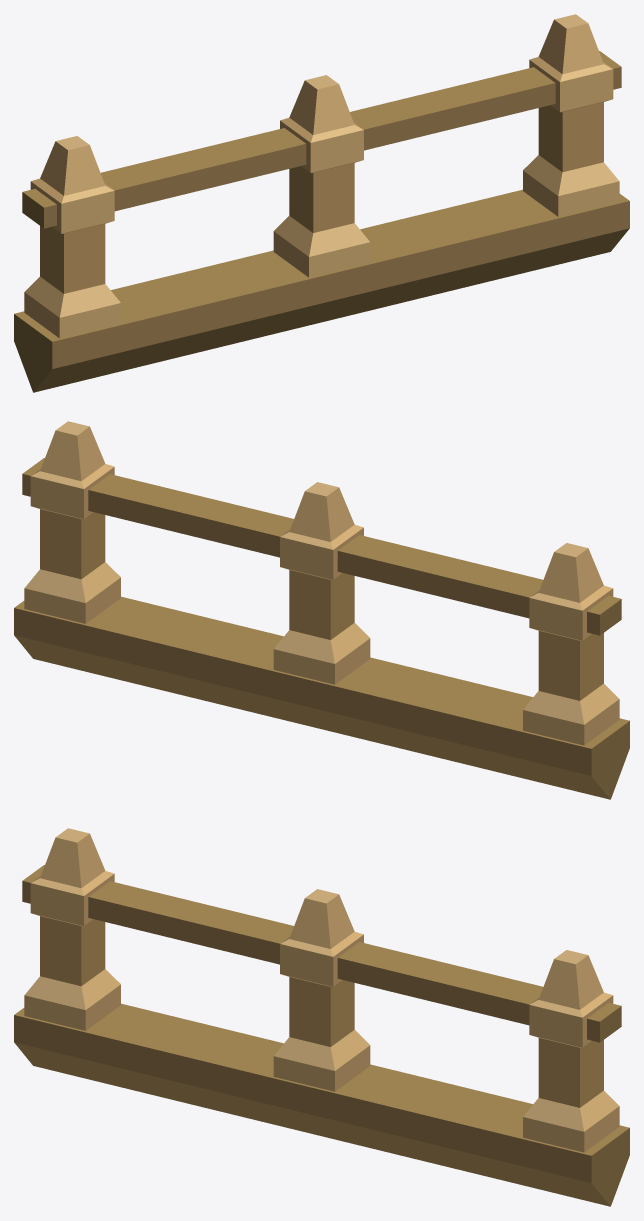
File: ST_Env_Railing_01.fbx
The picture shows the model from 3 angles, top to bottom: view 1: azimuth 30°, elevation 25°; view 2: azimuth 150°, elevation 25°; view 3: azimuth 330°, elevation 25°; orthographic projection.
Parts seen in each view (by area): view 1: ST_Env_Railing_01; view 2: ST_Env_Railing_01; view 3: ST_Env_Railing_01.
Part boxes in pixels (x1=…): ST_Env_Railing_01: x1=14, y1=14, x2=629, y2=392; ST_Env_Railing_01: x1=14, y1=421, x2=629, y2=799; ST_Env_Railing_01: x1=14, y1=828, x2=629, y2=1206.
Size of the model in its own units: 2 by 0.7944 by 0.2305.
